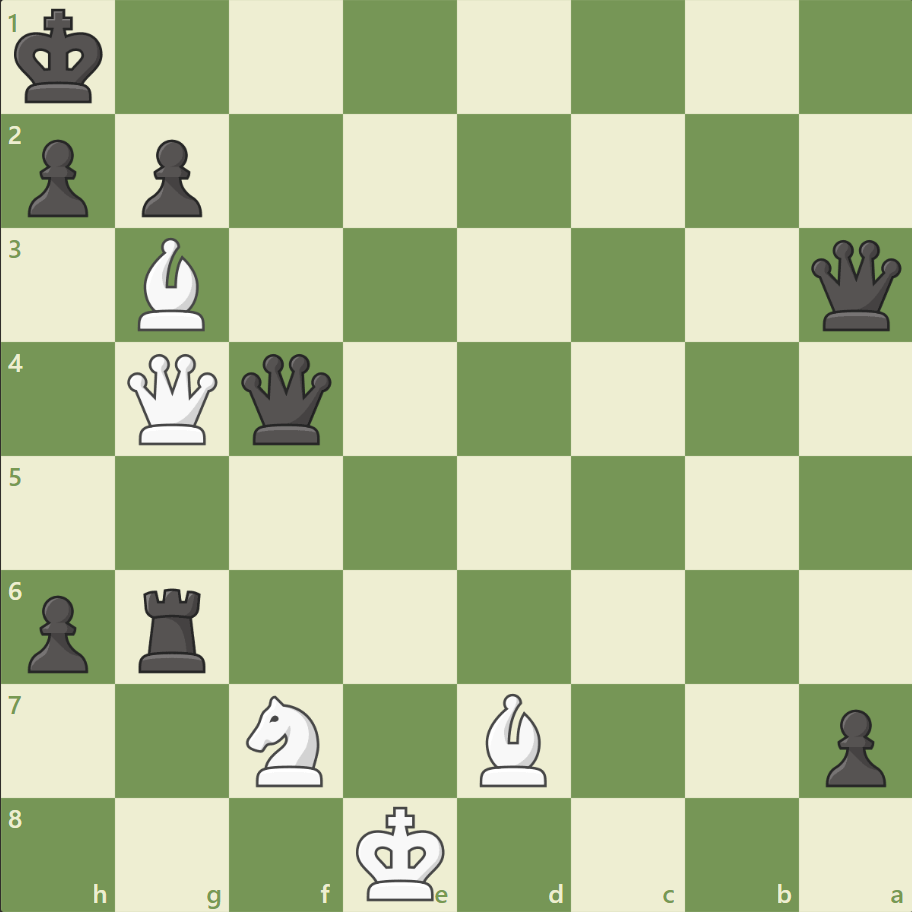B: (471, 687, 555, 790), (131, 233, 215, 336)
K: (351, 798, 451, 906)
N: (238, 688, 335, 791)
Q: (124, 349, 223, 449)
k: (11, 4, 111, 112)
p: (20, 586, 95, 677), (133, 132, 208, 223), (20, 132, 95, 223), (815, 700, 889, 791)
q: (237, 349, 336, 449), (805, 236, 904, 335)
r: (133, 579, 215, 676)
